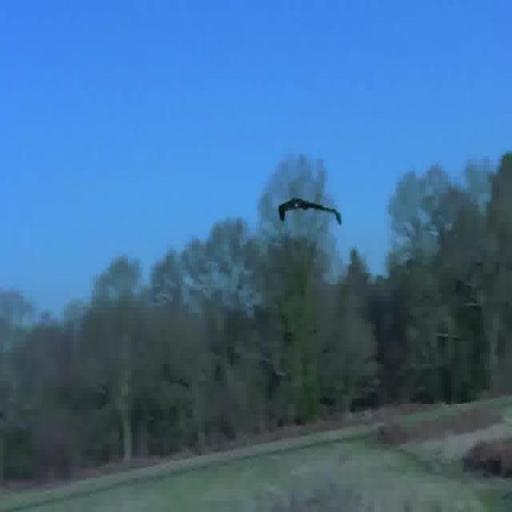uav: (275, 188, 347, 244)
